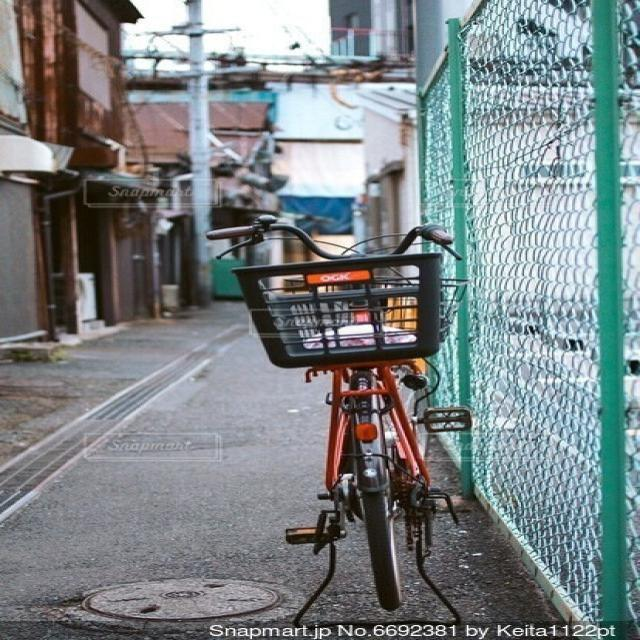basket: (226, 249, 450, 370)
